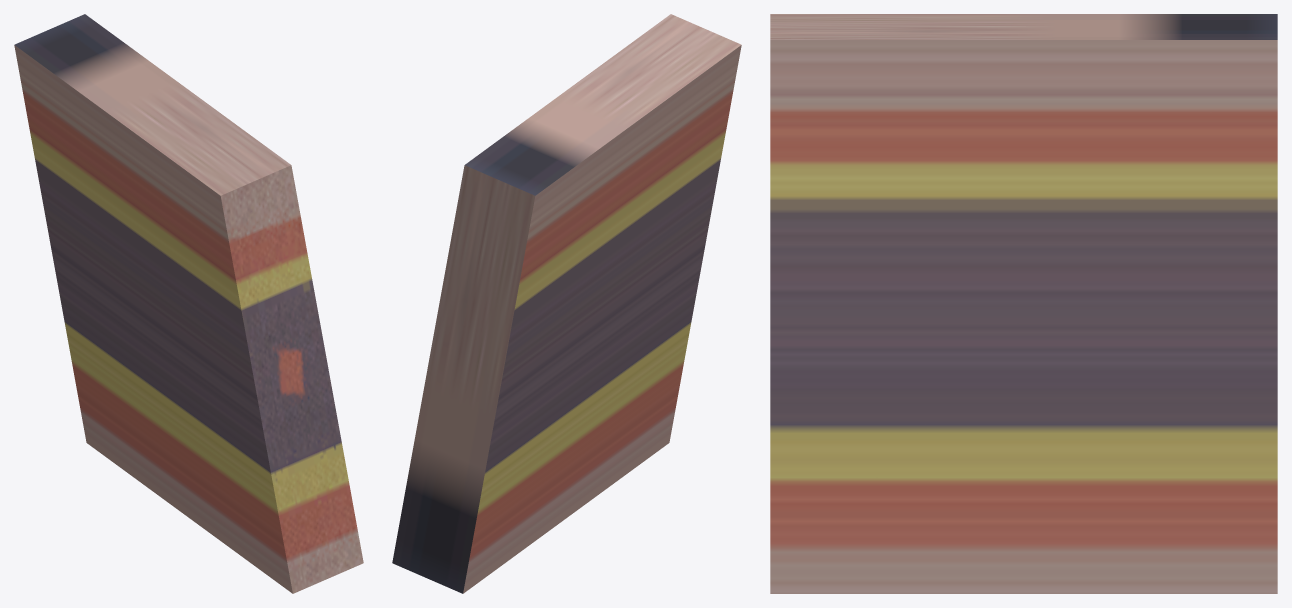
3 renders of one model, left to right at view 1: azimuth 30°, elevation 25°; view 2: azimuth 150°, elevation 25°; view 3: azimuth 270°, elevation 25°, orthographic. The views are drawn at different scales.
Visible parts, largest first — view 1: Joint_0_Object_0; view 2: Joint_0_Object_0; view 3: Joint_0_Object_0.
Boxes of the visible parts, x1=… form: Joint_0_Object_0: x1=14, y1=14, x2=363, y2=593; Joint_0_Object_0: x1=392, y1=14, x2=741, y2=593; Joint_0_Object_0: x1=770, y1=14, x2=1277, y2=593.
Bounding box in the file's own units: 208 × 595 × 519.
